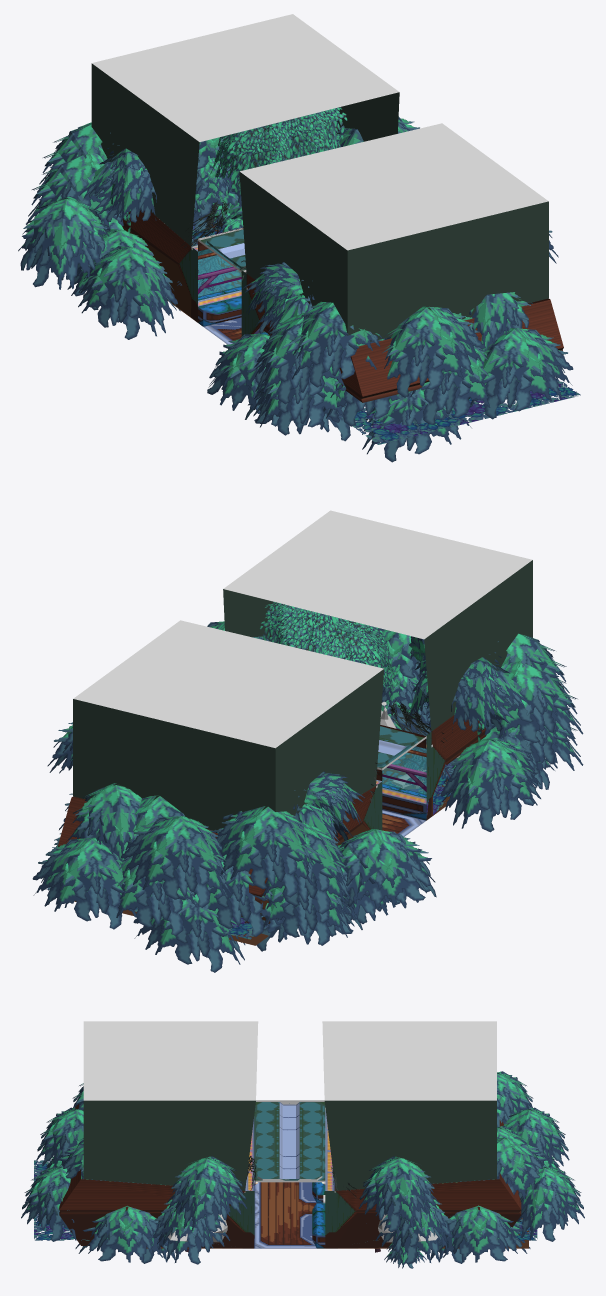
Rendered from CENARIO CORREDOR.fbx.
3 renders of one model, top to bottom at view 1: azimuth 30°, elevation 25°; view 2: azimuth 150°, elevation 25°; view 3: azimuth 270°, elevation 25°, orthographic. The views are drawn at different scales.
Visible parts, largest first — view 1: Corredor, Plane.056, Plane.092, Plane.047, Plane.086, Arvore_GRANDE, Plane.093, Arvore-2, Plane.091, Plane.079, Arvore-2.002, Plane.043 (+10 smaller); view 2: Corredor, Plane.044, Plane.079, Plane.045, Plane.047, Plane.036, Arvore_GRANDE.002, Arvore-2.002, Plane.091, Plane.032, Plane.053, Plane.043 (+13 smaller); view 3: Corredor, Plane.052, Plane.100, Plane.036, Plane.051, Plane.099, Plane.055, Plane.103, Plane.086, Plane.044, Plane.053, Plane.092 (+2 smaller).
Part boxes in pixels (<box>): Corredor: <box>91,14,580,444</box>; Plane.056: <box>78,246,180,339</box>; Plane.092: <box>382,306,485,397</box>; Plane.047: <box>18,196,109,289</box>; Plane.086: <box>468,328,573,419</box>; Arvore_GRANDE: <box>210,107,347,194</box>; Plane.093: <box>290,301,384,387</box>; Arvore-2: <box>79,132,201,223</box>; Plane.091: <box>254,313,344,404</box>; Plane.079: <box>207,334,279,426</box>; Arvore-2.002: <box>243,262,314,335</box>; Plane.043: <box>26,152,123,228</box>; Corredor: <box>46,510,532,945</box>; Plane.044: <box>121,816,232,907</box>; Plane.079: <box>440,737,540,832</box>; Plane.045: <box>214,806,317,897</box>; Plane.047: <box>338,829,436,909</box>; Plane.036: <box>32,837,138,929</box>; Arvore_GRANDE.002: <box>259,601,397,687</box>; Arvore-2.002: <box>406,636,529,757</box>; Plane.091: <box>484,661,583,742</box>; Plane.032: <box>133,894,245,972</box>; Plane.053: <box>66,783,141,865</box>; Plane.043: <box>262,822,352,914</box>; Corredor: <box>34,1021,537,1248</box>; Plane.052: <box>359,1156,438,1232</box>; Plane.100: <box>167,1156,246,1232</box>; Plane.036: <box>517,1165,584,1241</box>; Plane.051: <box>425,1205,530,1262</box>; Plane.099: <box>75,1205,180,1262</box>; Plane.055: <box>375,1199,452,1264</box>; Plane.103: <box>153,1199,230,1264</box>; Plane.086: <box>21,1165,76,1241</box>; Plane.044: <box>503,1107,569,1166</box>; Plane.053: <box>470,1138,548,1199</box>; Plane.092: <box>36,1107,83,1166</box>.
Size of the model in its own units: 3288 by 1674 by 5003.
